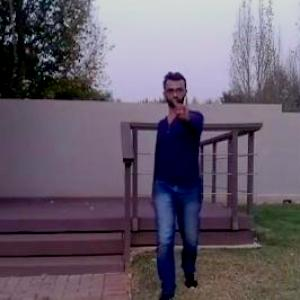takeoff-hand: (164, 86, 199, 131)
